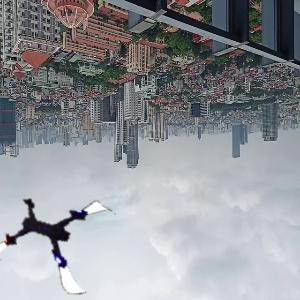drone: (5, 180, 115, 290)
